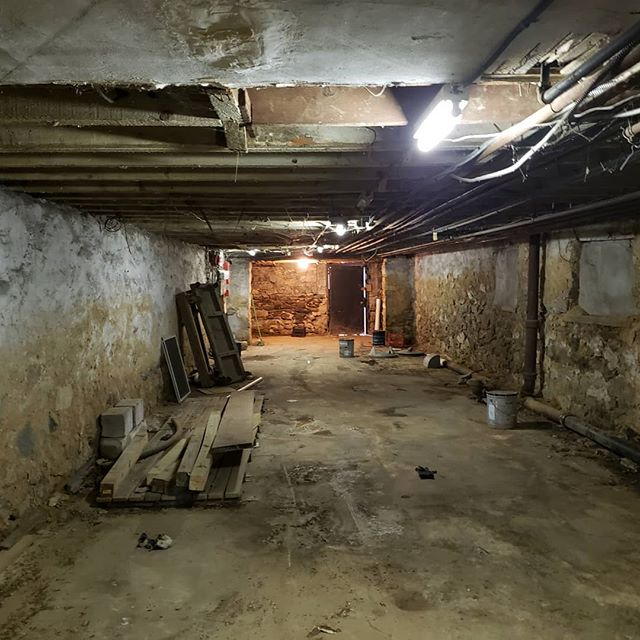trash: (84, 266, 296, 507)
tunnel: (11, 42, 640, 640)
